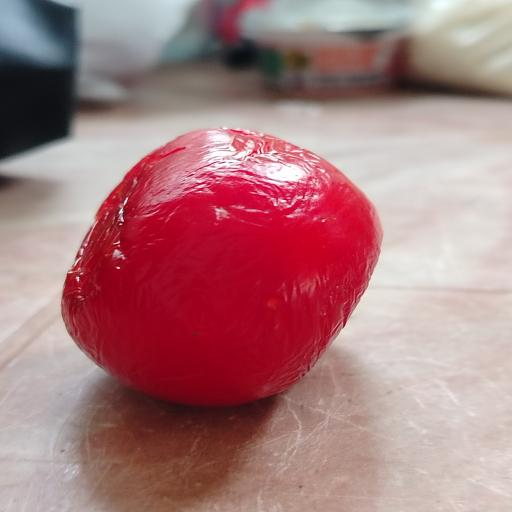spoiled: (62, 129, 381, 406), (215, 207, 228, 220)
